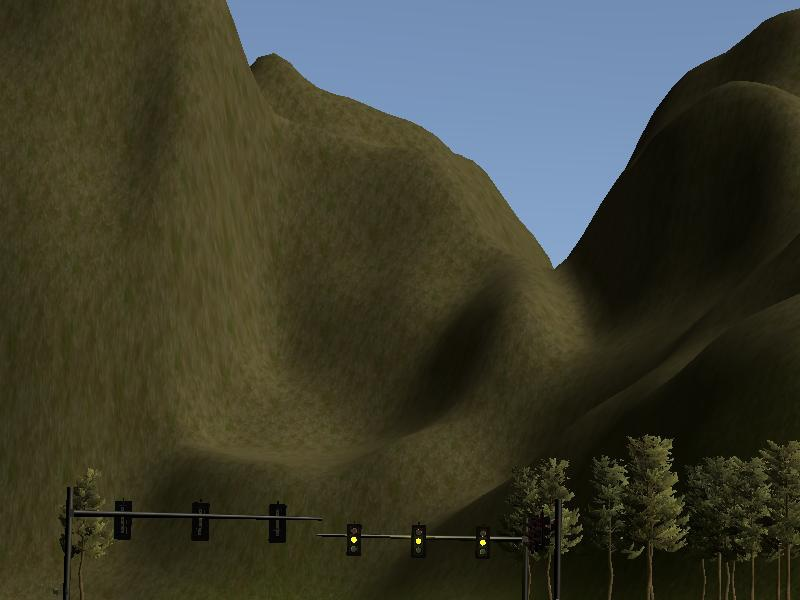Yellow: (472, 522, 492, 562), (409, 521, 428, 562), (345, 520, 364, 559)
